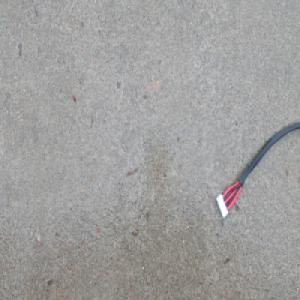Wire: (214, 120, 300, 219)
